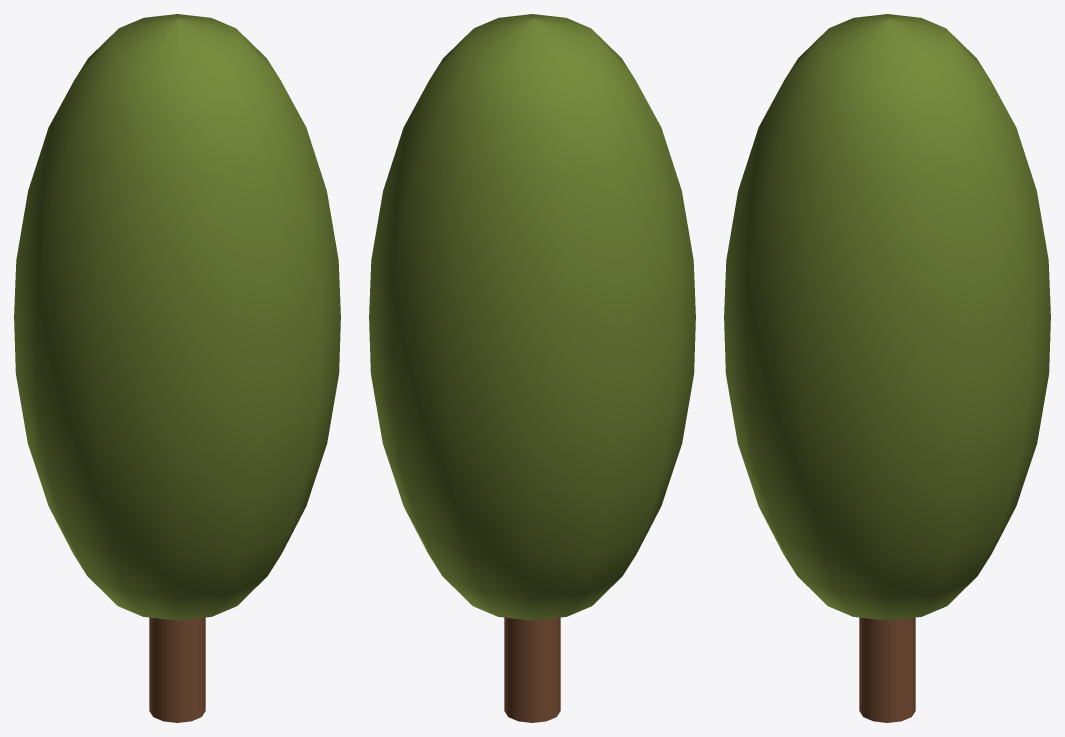
The model's file is Giant_Sequoia_Analytical_0.obj.
3 views of the same model, side by side, from view 1: azimuth 30°, elevation 25°; view 2: azimuth 150°, elevation 25°; view 3: azimuth 270°, elevation 25° (orthographic).
Visible parts, largest first — view 1: AnalyticalCrown, AnalyticalTrunk; view 2: AnalyticalCrown, AnalyticalTrunk; view 3: AnalyticalCrown, AnalyticalTrunk.
Boxes of the visible parts, x1,y1,x2,y2 form: AnalyticalCrown: (14,14,340,620); AnalyticalTrunk: (149,617,205,722); AnalyticalCrown: (369,14,695,620); AnalyticalTrunk: (504,617,560,722); AnalyticalCrown: (724,14,1050,620); AnalyticalTrunk: (859,617,915,722).
Size of the model in its own units: 27.86 by 65 by 27.86.
